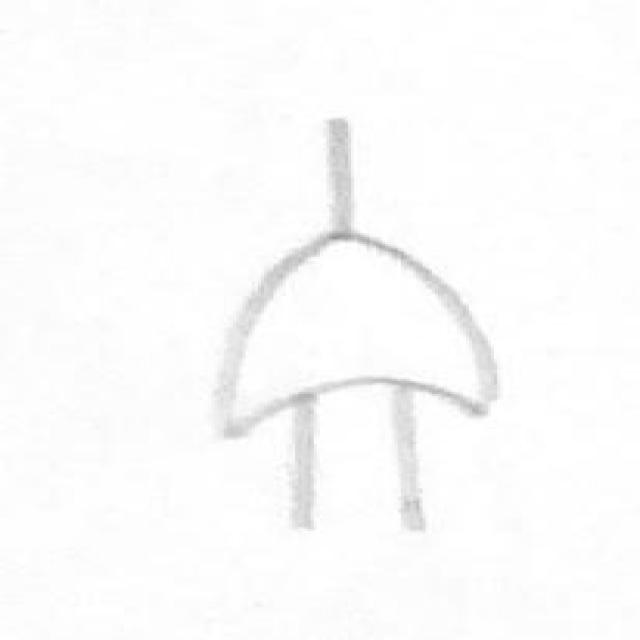OR: (176, 205, 530, 439)
